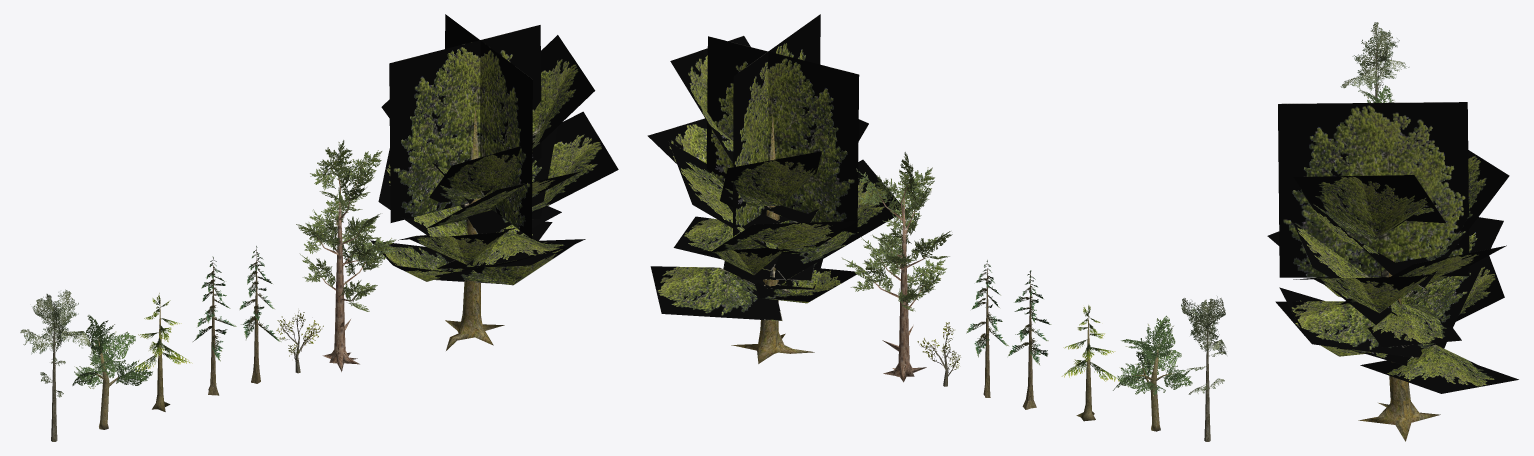
Rendered from useme.fbx.
The picture shows the model from 3 angles, left to right: view 1: azimuth 30°, elevation 25°; view 2: azimuth 150°, elevation 25°; view 3: azimuth 270°, elevation 25°; orthographic projection. The views are drawn at different scales.
Parts seen in each view (by area): view 1: Tree, Tree_1, Tree_6, Tree_7, Tree_5, Tree_3, Tree_4, Tree_2; view 2: Tree, Tree_1, Tree_6, Tree_7, Tree_5, Tree_4, Tree_3, Tree_2; view 3: Tree, Tree_7, Tree_6.
Part boxes in pixels (x1,y1,x2,y2): Tree: (370,14,618,350); Tree_1: (296,140,396,371); Tree_6: (72,315,152,429); Tree_7: (20,289,90,441); Tree_5: (132,293,192,411); Tree_3: (239,246,281,383); Tree_4: (193,256,236,395); Tree_2: (276,310,323,373); Tree: (647,14,900,363); Tree_1: (841,152,952,382); Tree_6: (1113,315,1192,431); Tree_7: (1181,296,1226,441); Tree_5: (1061,305,1119,421); Tree_4: (1008,270,1051,409); Tree_3: (966,260,1008,397); Tree_2: (917,322,960,386); Tree: (1267,58,1518,441); Tree_7: (1340,22,1409,101); Tree_6: (1366,85,1394,102).
Size of the model in its own units: 4059 by 1989 by 1408.
Materials: 14 (14 with a texture image).
